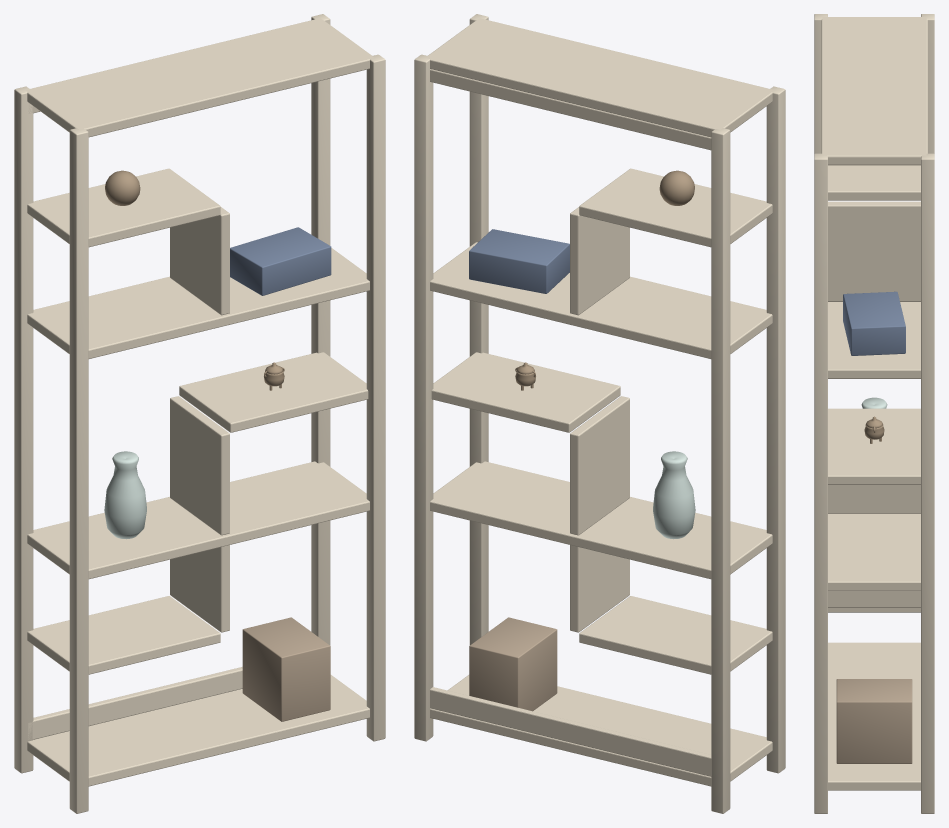
Rendered from sg_bookcase.glb.
3 views of the same model, side by side, from view 1: azimuth 30°, elevation 25°; view 2: azimuth 150°, elevation 25°; view 3: azimuth 270°, elevation 25° (orthographic). The views are drawn at different scales.
Parts seen in each view (by area): view 1: shelves, post00, post10, post01, post11, books2, books, vase, orb; view 2: shelves, post01, post11, post00, post10, books2, books, vase, orb; view 3: shelves, post10, post11, books2, books, post00, post01, vase.
Part boxes in pixels (<box>): shelves: <box>25,18,374,786</box>; post00: <box>69,128,88,813</box>; post10: <box>366,54,385,741</box>; post01: <box>14,86,33,773</box>; post11: <box>311,14,330,645</box>; books2: <box>242,617,330,721</box>; books: <box>230,227,331,295</box>; vase: <box>104,451,146,539</box>; orb: <box>105,170,140,205</box>; shelves: <box>425,18,774,786</box>; post01: <box>711,128,730,813</box>; post11: <box>414,54,433,741</box>; post00: <box>766,86,785,773</box>; post10: <box>469,14,488,645</box>; books2: <box>469,617,557,711</box>; books: <box>469,229,569,293</box>; vase: <box>653,451,695,539</box>; orb: <box>659,170,694,205</box>; shelves: <box>821,17,927,790</box>; post10: <box>814,153,827,813</box>; post11: <box>921,153,934,813</box>; books2: <box>836,679,912,763</box>; books: <box>843,291,905,355</box>; post00: <box>814,14,827,153</box>; post01: <box>921,14,934,153</box>; vase: <box>861,397,887,408</box>.
Size of the model in its own units: 1 by 2.1 by 0.35.
